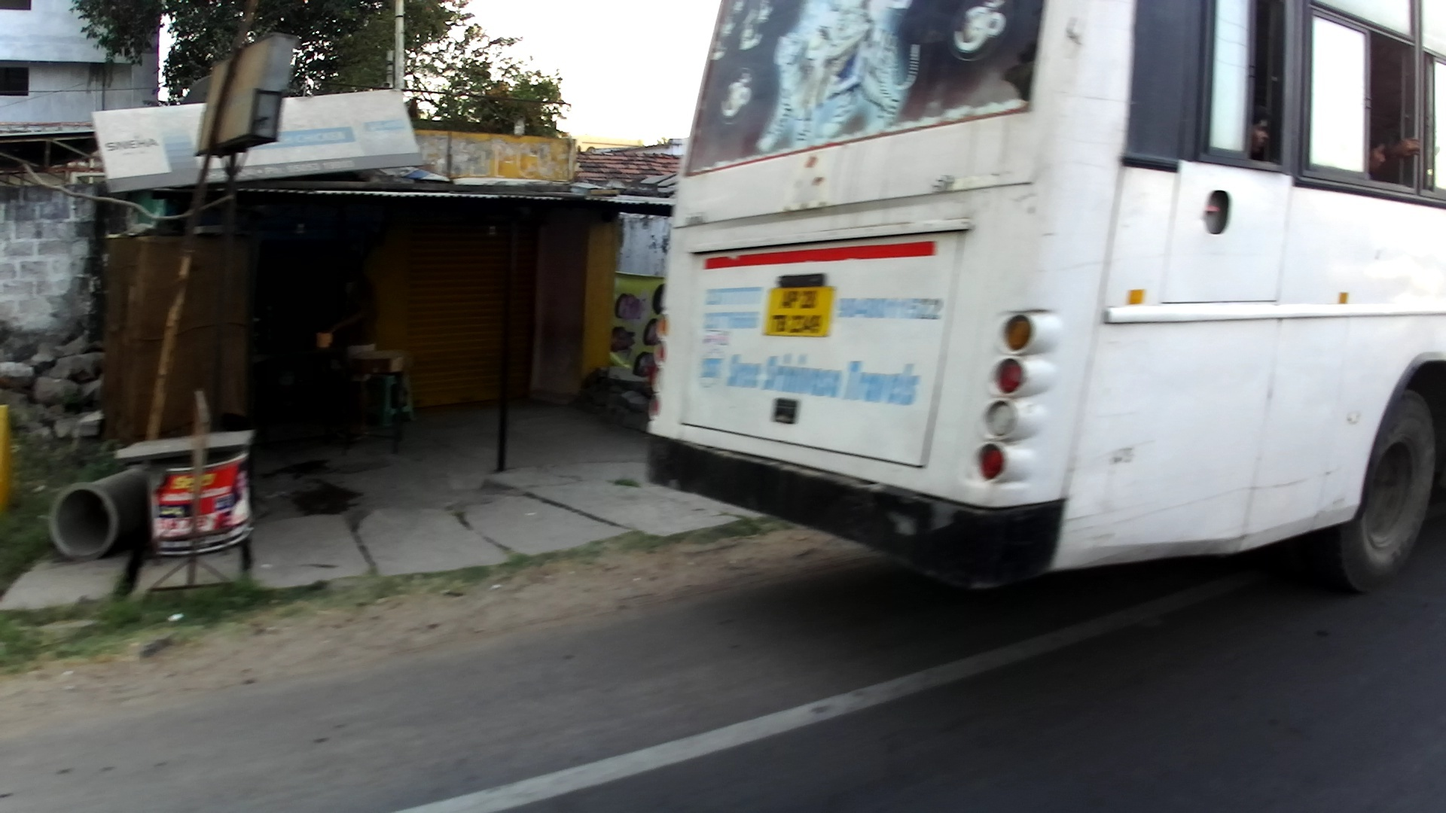bus: (651, 0, 1444, 596)
